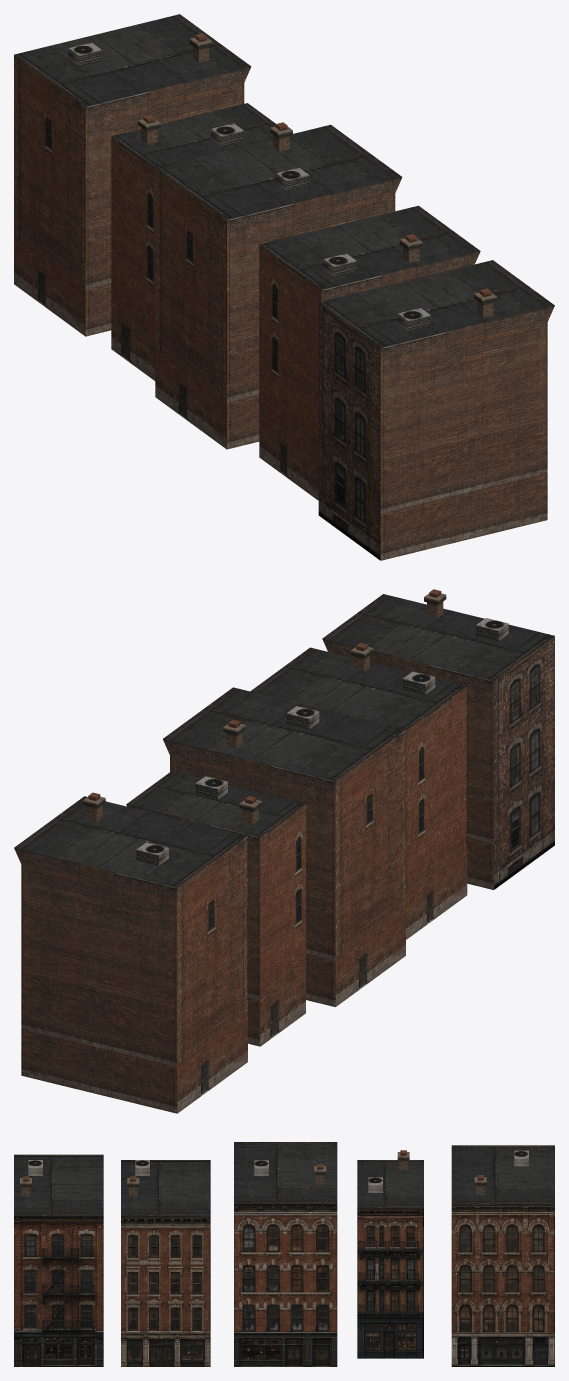
Rendered from GenericBrickBuildings.glb.
The picture shows the model from 3 angles, top to bottom: view 1: azimuth 30°, elevation 25°; view 2: azimuth 150°, elevation 25°; view 3: azimuth 270°, elevation 25°; orthographic projection. The views are drawn at different scales.
Parts seen in each view (by area): view 1: GenericBrickBuilding5, GenericBrickBuilding2, GenericBrickBuilding4, GenericBrickBuilding1, GenericBrickBuilding3; view 2: GenericBrickBuilding4, GenericBrickBuilding2, GenericBrickBuilding5, GenericBrickBuilding1, GenericBrickBuilding3; view 3: GenericBrickBuilding2, GenericBrickBuilding4, GenericBrickBuilding5, GenericBrickBuilding1, GenericBrickBuilding3.
Boxes of the visible parts, x1,y1,x2,y2 form: GenericBrickBuilding5: (318,260,554,560); GenericBrickBuilding2: (155,122,402,449); GenericBrickBuilding4: (14,14,251,336); GenericBrickBuilding1: (259,205,480,500); GenericBrickBuilding3: (111,103,275,380); GenericBrickBuilding4: (14,792,247,1113); GenericBrickBuilding2: (163,687,405,1006); GenericBrickBuilding5: (322,589,554,889); GenericBrickBuilding1: (250,643,467,939); GenericBrickBuilding3: (126,771,305,1046); GenericBrickBuilding2: (234,1142,337,1366); GenericBrickBuilding4: (451,1145,554,1366); GenericBrickBuilding5: (14,1154,103,1366); GenericBrickBuilding1: (121,1160,210,1366); GenericBrickBuilding3: (357,1150,423,1358).
Bounding box in the file's own units: 3.27 × 4.5 × 12.09.
Materials: 1 (1 with a texture image).
